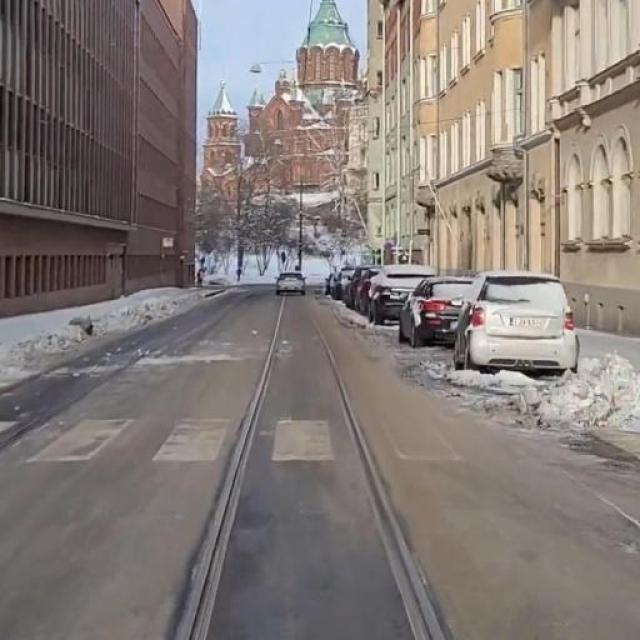vehicle: (275, 266, 316, 300)
